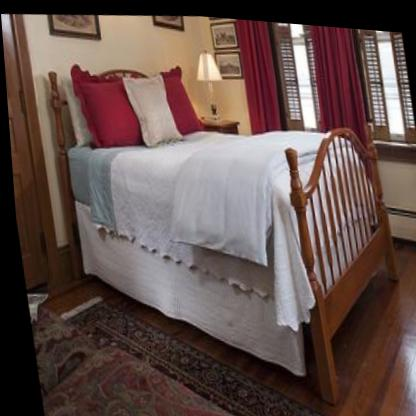Bed: (40, 41, 413, 416)
